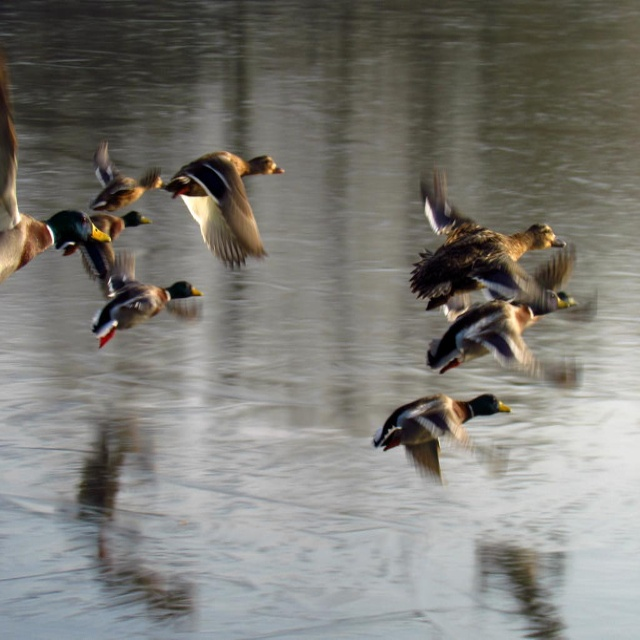Duck: (0, 56, 112, 303), (408, 167, 573, 310), (159, 148, 286, 285), (368, 375, 535, 469), (423, 291, 549, 396), (92, 250, 206, 350), (59, 203, 158, 274), (91, 138, 172, 201)
